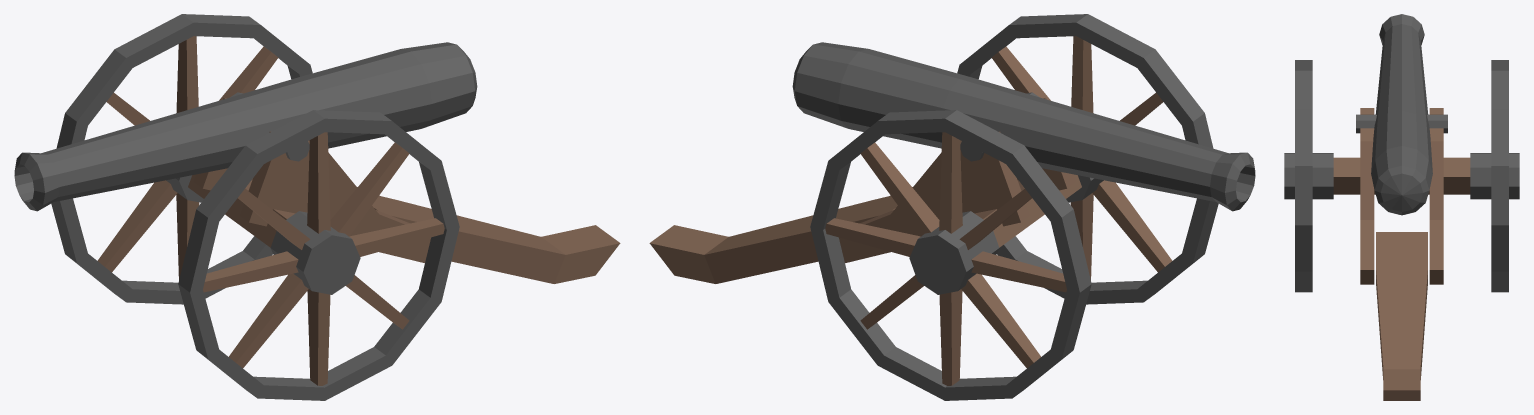
The model's file is Wheeled Cannon destruction.fbx.
3 views of the same model, side by side, from view 1: azimuth 30°, elevation 25°; view 2: azimuth 150°, elevation 25°; view 3: azimuth 270°, elevation 25° (orthographic). The views are drawn at different scales.
Parts seen in each view (by area): view 1: Barrel, Barrel.004, Cube.311, Barrel.003, Cube.309, Cube.319, Cube.322, Barrel.005, Cube.320; view 2: Barrel, Barrel.003, Cube.319, Barrel.004, Cube.309, Cube.311, Cube.321, Barrel.001, Cube.320; view 3: Barrel, Cube.309, Barrel.004, Barrel.003, Cube.322, Cube.321, Cube.320, Barrel.005, Barrel.001, Barrel.002.
Boxes of the visible parts, <box> form: Barrel: <box>14,42,477,211</box>; Barrel.004: <box>178,110,459,400</box>; Cube.311: <box>203,132,444,385</box>; Barrel.003: <box>51,14,312,304</box>; Cube.309: <box>372,195,620,283</box>; Cube.319: <box>97,36,278,279</box>; Cube.322: <box>240,131,430,263</box>; Barrel.005: <box>270,211,360,294</box>; Cube.320: <box>188,174,295,247</box>; Barrel: <box>792,42,1255,211</box>; Barrel.003: <box>810,110,1091,400</box>; Cube.319: <box>825,132,1066,385</box>; Barrel.004: <box>957,14,1218,304</box>; Cube.309: <box>649,195,897,283</box>; Cube.311: <box>991,36,1172,279</box>; Cube.321: <box>839,131,1029,263</box>; Barrel.001: <box>909,211,999,294</box>; Cube.320: <box>974,174,1081,247</box>; Barrel: <box>1371,14,1432,215</box>; Cube.309: <box>1376,232,1427,400</box>; Barrel.004: <box>1295,60,1312,292</box>; Barrel.003: <box>1491,60,1508,292</box>; Cube.322: <box>1360,108,1374,284</box>; Cube.321: <box>1429,108,1443,284</box>; Cube.320: <box>1333,157,1470,194</box>; Barrel.005: <box>1284,153,1333,199</box>; Barrel.001: <box>1470,153,1519,199</box>; Barrel.002: <box>1356,114,1447,133</box>.
Size of the model in its own units: 4.55 by 2.1 by 2.12.
